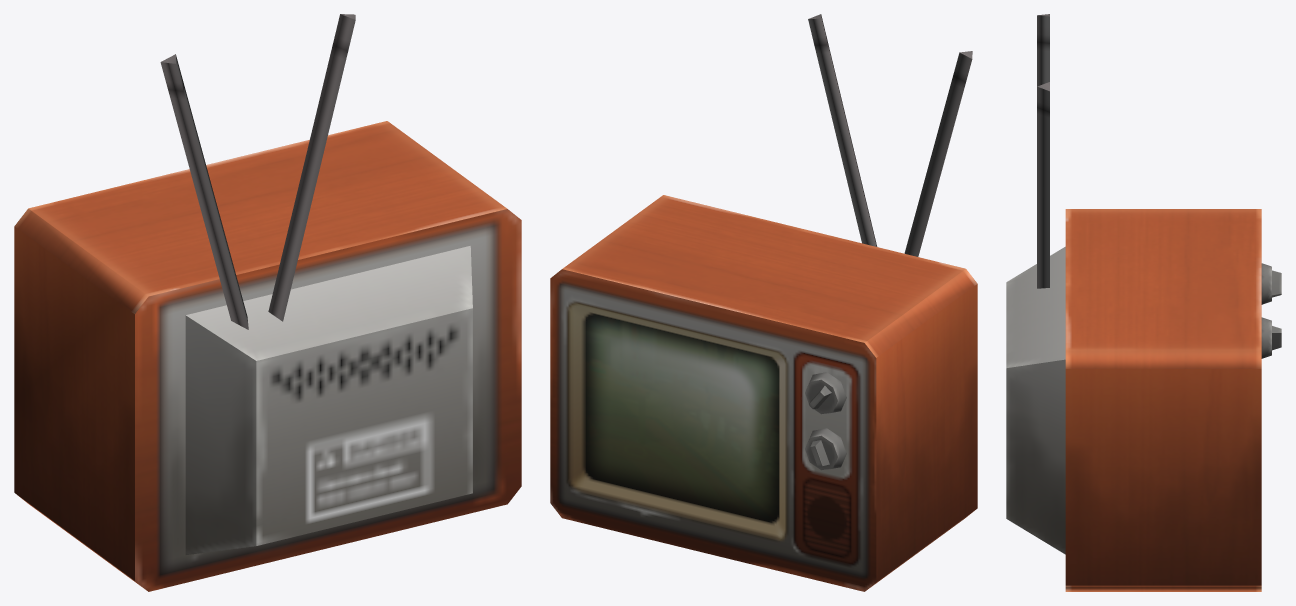
File: ELT0110002.fbx
3 views of the same model, side by side, from view 1: azimuth 30°, elevation 25°; view 2: azimuth 150°, elevation 25°; view 3: azimuth 270°, elevation 25° (orthographic). The views are drawn at different scales.
Visible parts, largest first — view 1: smELT0110002; view 2: smELT0110002; view 3: smELT0110002.
Part boxes in pixels (box(x1,y1,x2,y2)): smELT0110002: box(14, 14, 521, 591); smELT0110002: box(550, 14, 977, 591); smELT0110002: box(1006, 14, 1281, 591).
Size of the model in its own units: 67.35 by 89.99 by 51.04.
1 material, 1 textured.
